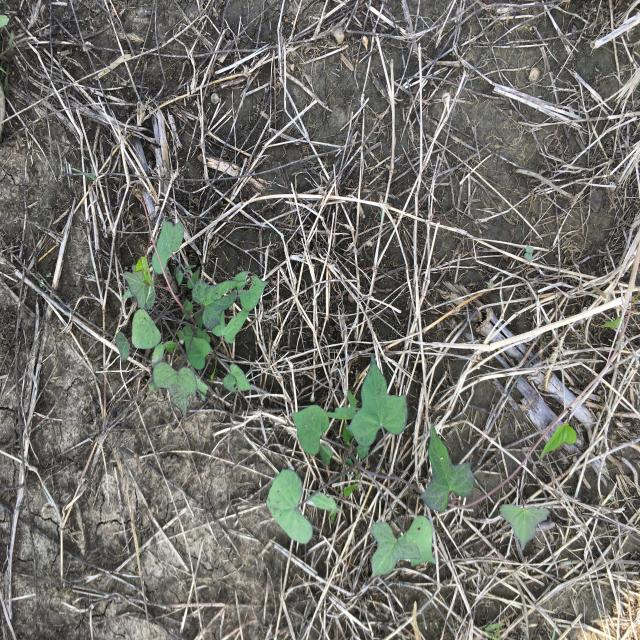MorningGlory: (264, 354, 578, 582), (112, 217, 271, 425)
